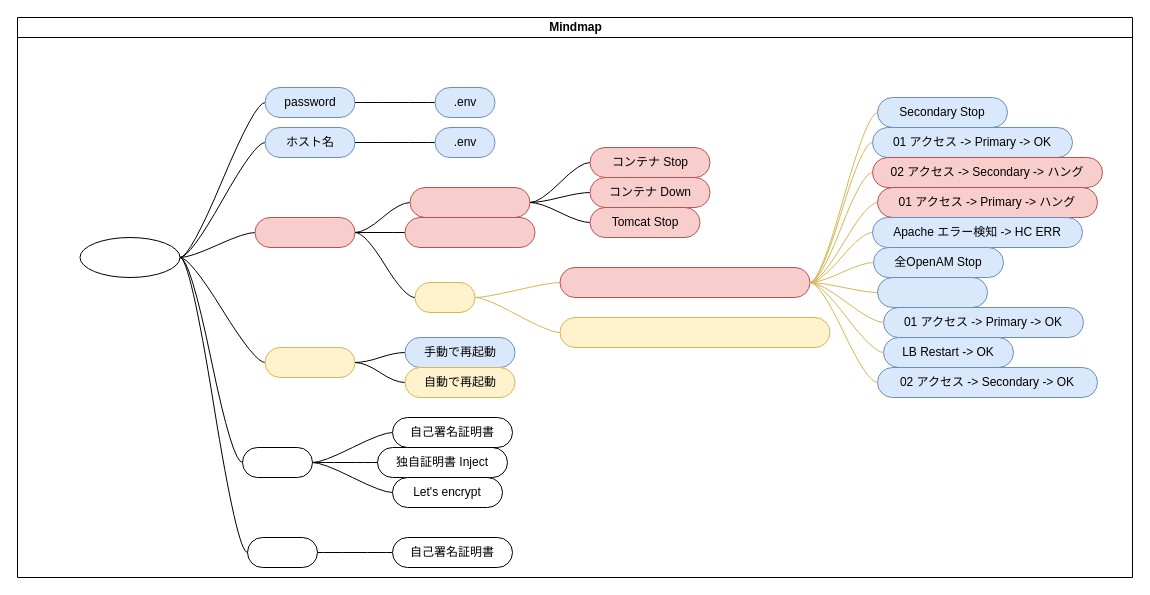
The diagram is 1150 pixels wide and 595 high, and some of its shapes have lost their labels. The shapes that lost their labels are listed below. From the top down, each one's centre as x and y in pixels, then its label:
(x=469, y=202): Primaryダウン
(x=304, y=232): 片系ダウン
(x=469, y=232): Secondaryダウン
(x=129, y=257): 利用パターン
(x=444, y=297): 問題
(x=684, y=282): Pause -> レプリケーションでハング？
(x=932, y=292): Primary Start
(x=694, y=332): ログアウト -> ログイン -> amlbcookie "01"
(x=309, y=362): リカバリ
(x=277, y=462): https
(x=282, y=552): SAML
